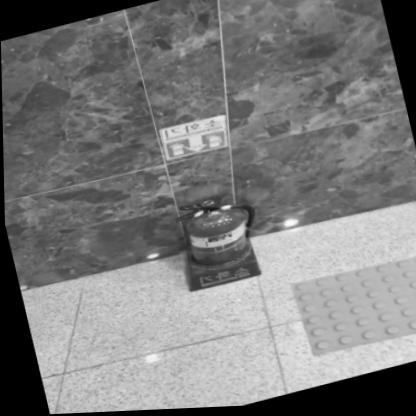FE: (166, 191, 268, 294)
